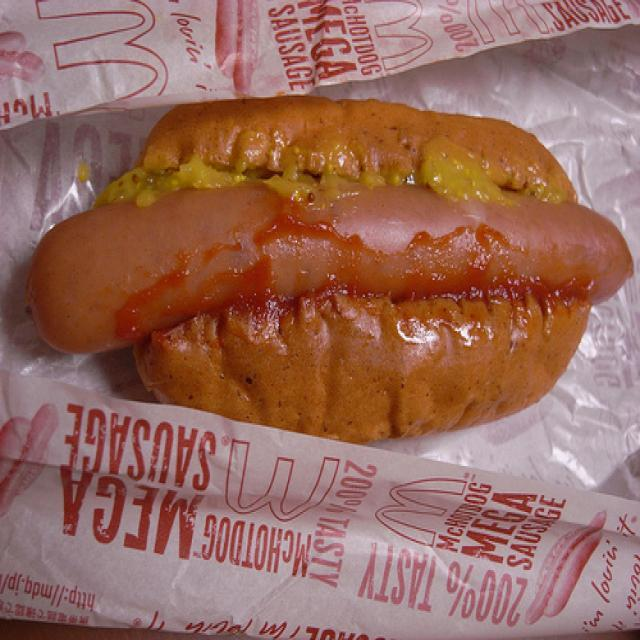Hot Dog: (13, 96, 640, 424)
